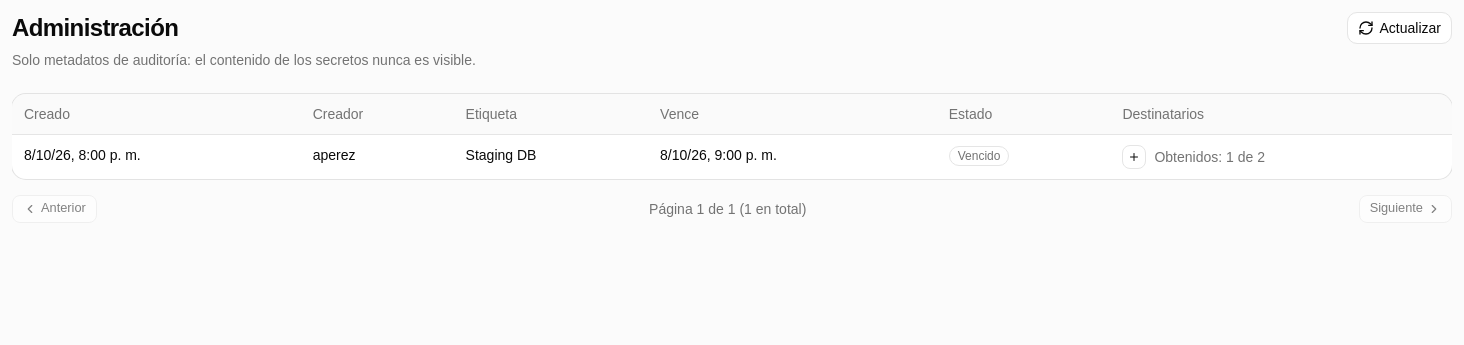
Test: AdminPage › marks unused grants of a closed share as not obtained
This screenshot has width=1464, height=345.
Click the button named "Mostrar destinatarios" at (1134, 156), box [1122,144,1146,168]
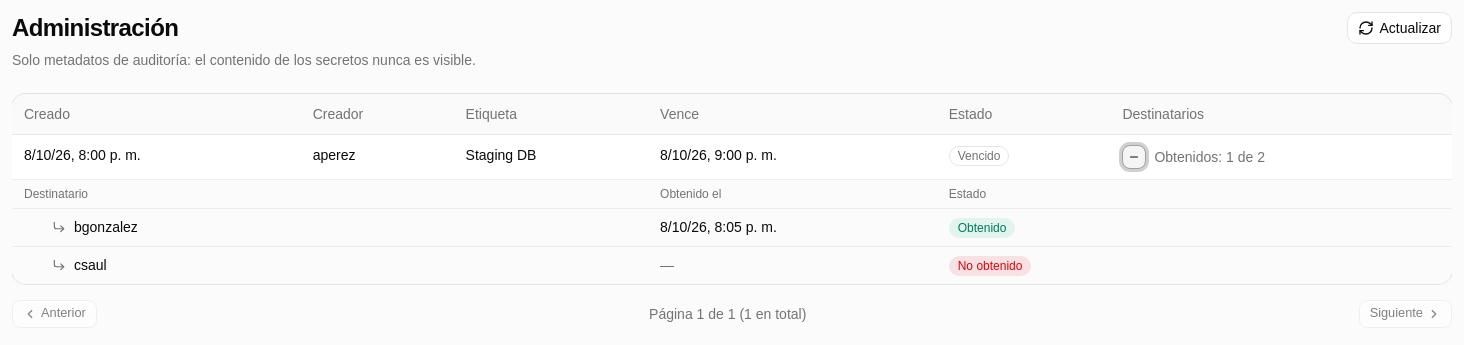
Check: the row "csaul" shows "No obtenido", box [958,258,1022,272]
